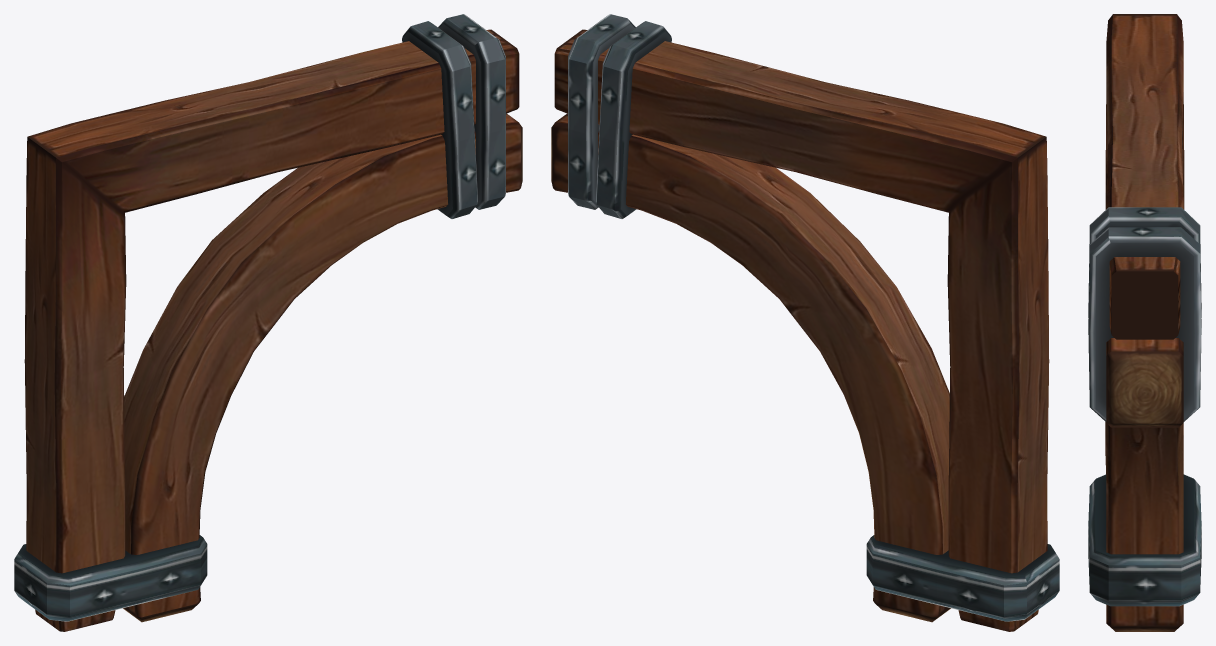
Rendered from Pole_Corner_A.fbx.
The picture shows the model from 3 angles, left to right: view 1: azimuth 30°, elevation 25°; view 2: azimuth 150°, elevation 25°; view 3: azimuth 270°, elevation 25°; orthographic projection. The views are drawn at different scales.
Parts seen in each view (by area): view 1: pCube14; view 2: pCube14; view 3: pCube14.
Boxes of the visible parts, x1,y1,x2,y2 form: pCube14: (14,14,522,631); pCube14: (551,14,1059,631); pCube14: (1088,14,1201,631).
Size of the model in its own units: 7.33 by 7.36 by 1.34.
